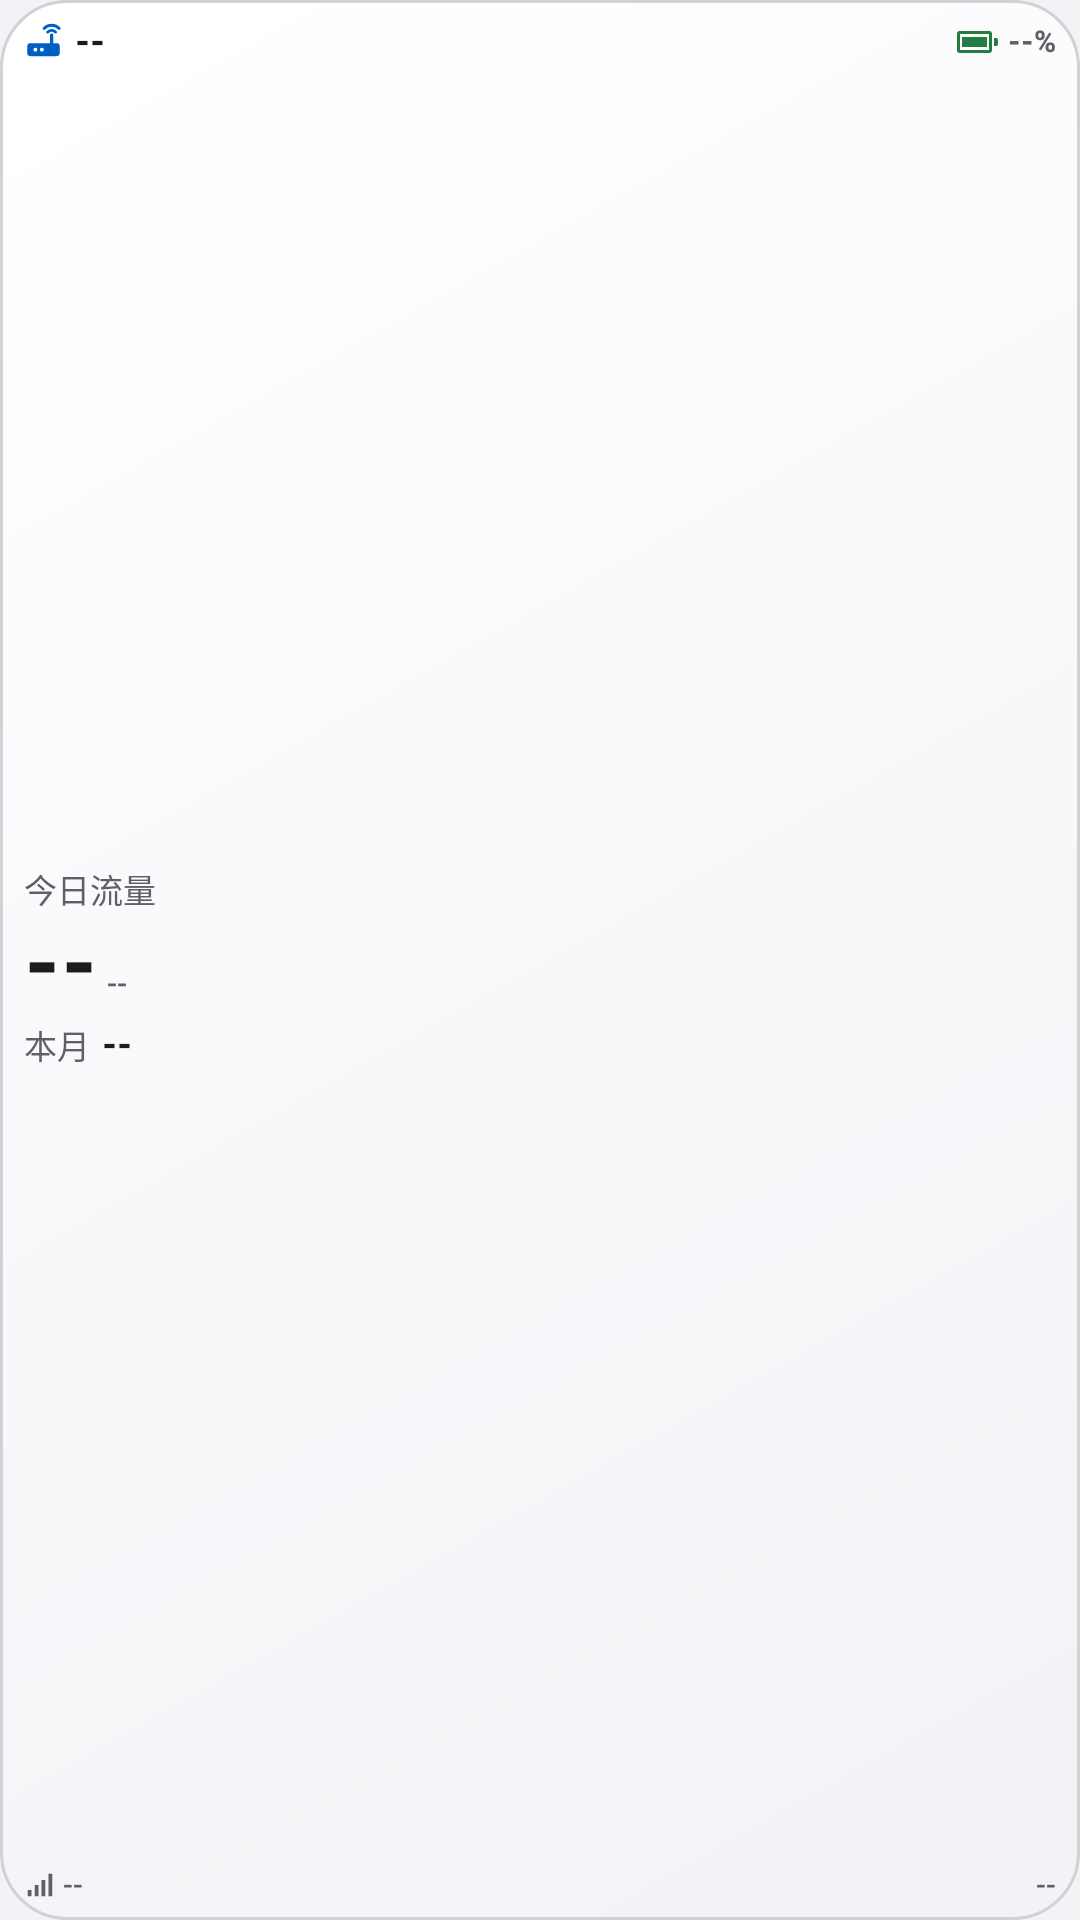

Named icons in this screenshot (1080*1920) and their bounding boxes, (x1, y1, x2, y2):
bat: (957, 31, 998, 53)
router: (27, 23, 61, 57)
signal: (27, 1873, 53, 1897)
